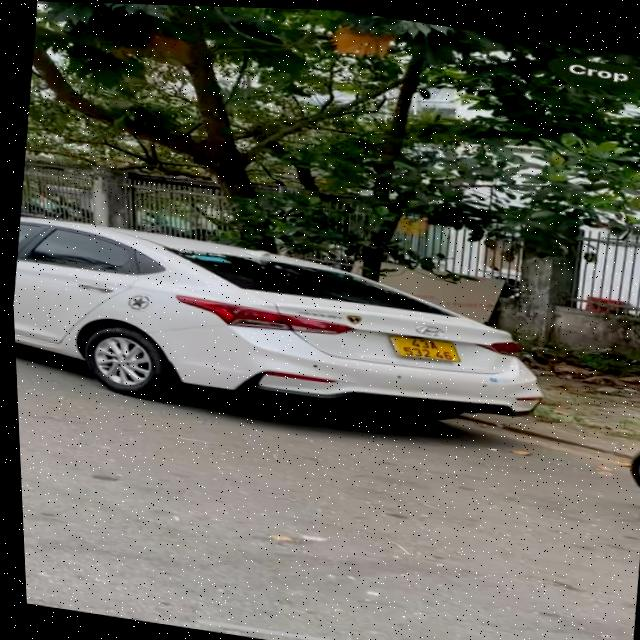car: (9, 206, 553, 471)
plate: (382, 324, 467, 371)
